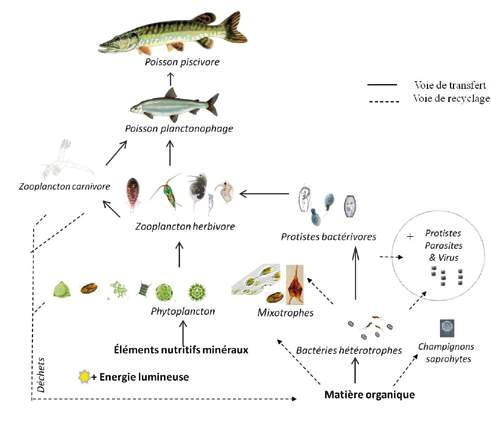texte: (292, 330, 402, 369), (53, 281, 206, 301), (136, 218, 235, 248), (160, 114, 233, 142), (106, 140, 174, 166), (311, 194, 356, 226), (114, 344, 248, 354), (412, 343, 474, 361), (121, 114, 156, 142), (100, 372, 189, 383), (234, 284, 284, 303), (366, 384, 415, 401), (19, 182, 110, 191), (325, 378, 363, 399), (202, 174, 232, 200), (281, 233, 376, 240), (245, 267, 280, 286), (151, 307, 215, 317), (412, 354, 471, 364), (258, 308, 313, 318), (159, 180, 176, 208), (448, 94, 490, 104), (413, 94, 464, 102), (436, 81, 486, 89), (75, 365, 88, 391), (422, 229, 461, 237), (434, 83, 444, 111), (425, 242, 462, 249), (257, 190, 289, 198), (429, 254, 458, 261), (176, 241, 183, 268), (380, 255, 403, 260), (277, 340, 288, 350), (92, 370, 95, 383), (409, 362, 411, 366), (407, 236, 414, 237), (314, 378, 316, 381)
